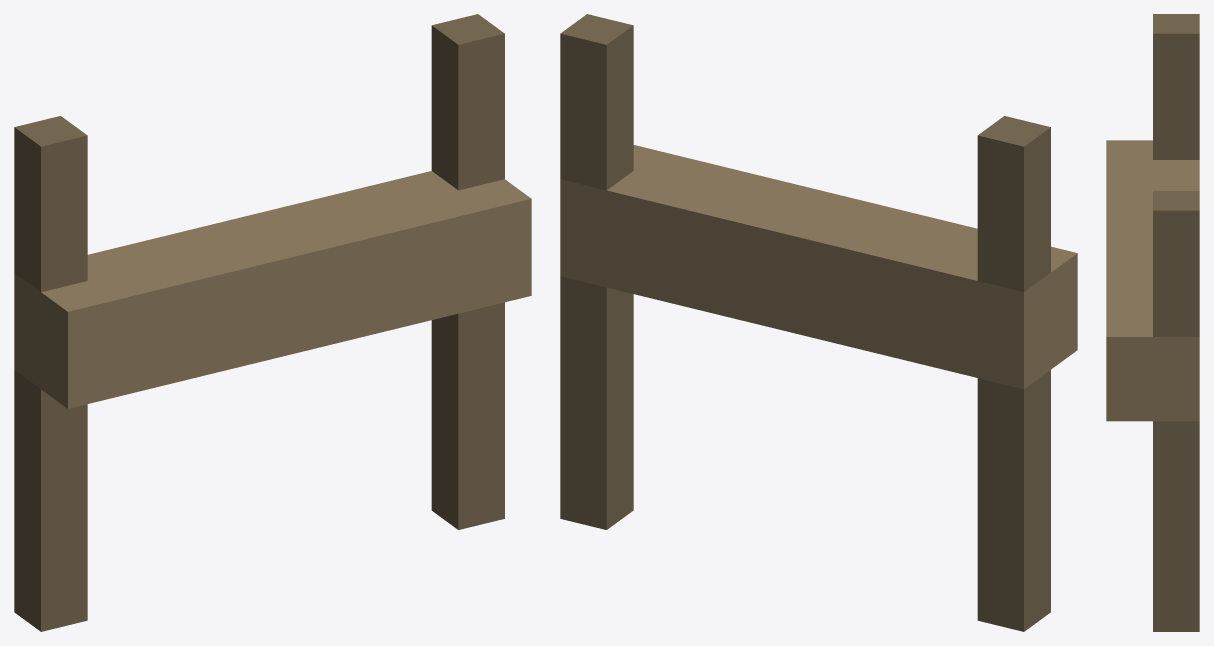
File: valla_madera_02.glb
3 views of the same model, side by side, from view 1: azimuth 30°, elevation 25°; view 2: azimuth 150°, elevation 25°; view 3: azimuth 270°, elevation 25° (orthographic). The views are drawn at different scales.
Parts seen in each view (by area): view 1: valla_madera_02; view 2: valla_madera_02; view 3: valla_madera_02.
Boxes of the visible parts, x1=… form: valla_madera_02: x1=14, y1=14, x2=531, y2=631; valla_madera_02: x1=560, y1=14, x2=1077, y2=631; valla_madera_02: x1=1106, y1=14, x2=1199, y2=631.
Bounding box in the file's own units: 1 × 1 × 0.2.
